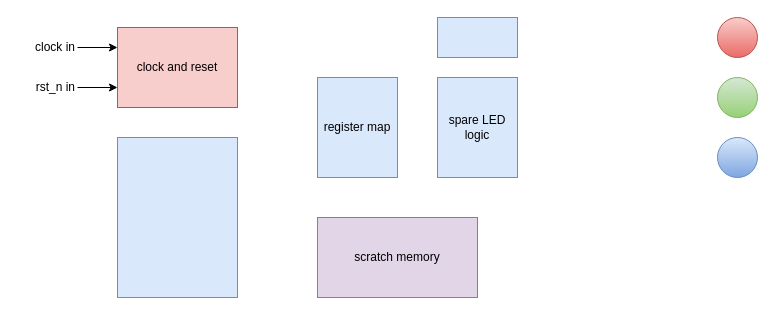
The diagram is 775 pixels wide and 315 high, and some of its shapes have lost their labels. Here are the shapes that lost their labels. From the top down, the centre of each, then its label:
At (x=477, y=37): "blinky logic".
At (x=177, y=217): "uart i/f".
